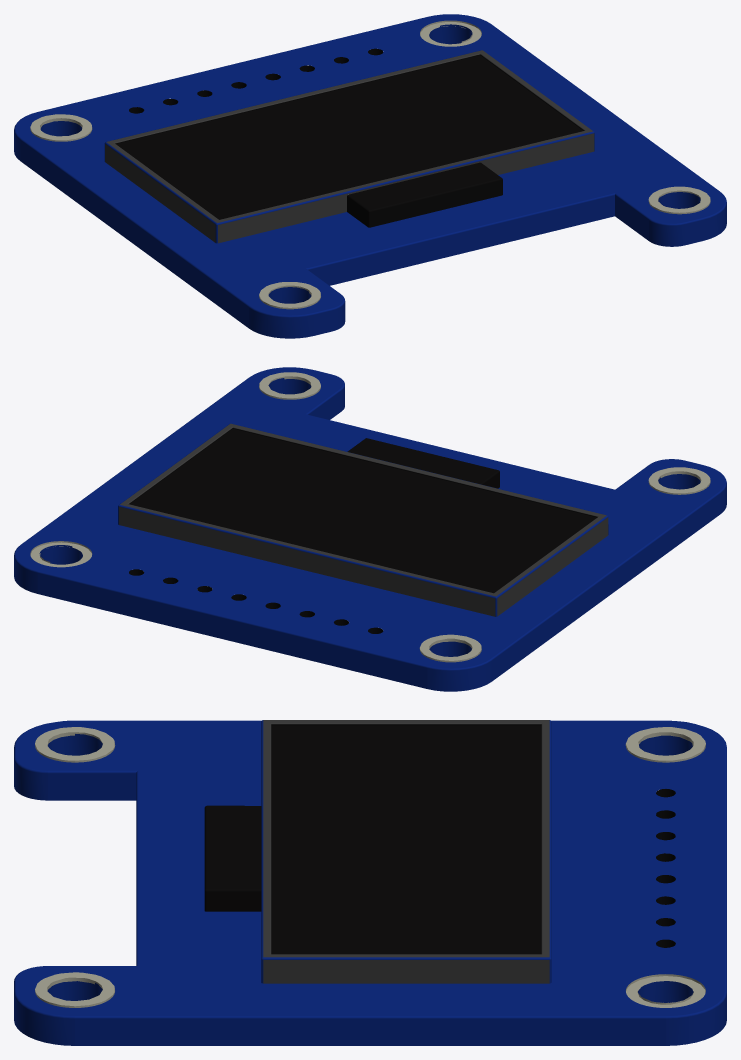
The model's file is oled-128x64.glb.
3 renders of one model, top to bottom at view 1: azimuth 30°, elevation 25°; view 2: azimuth 150°, elevation 25°; view 3: azimuth 270°, elevation 25°, orthographic. The views are drawn at different scales.
Visible parts, largest first — view 1: Adafruit_SSD1306; view 2: Adafruit_SSD1306; view 3: Adafruit_SSD1306.
Boxes of the visible parts, x1,y1,x2,y2 form: Adafruit_SSD1306: (14,14,726,338); Adafruit_SSD1306: (14,367,726,691); Adafruit_SSD1306: (14,720,726,1045).
Bounding box in the file's own units: 35.05 × 3 × 35.56.
